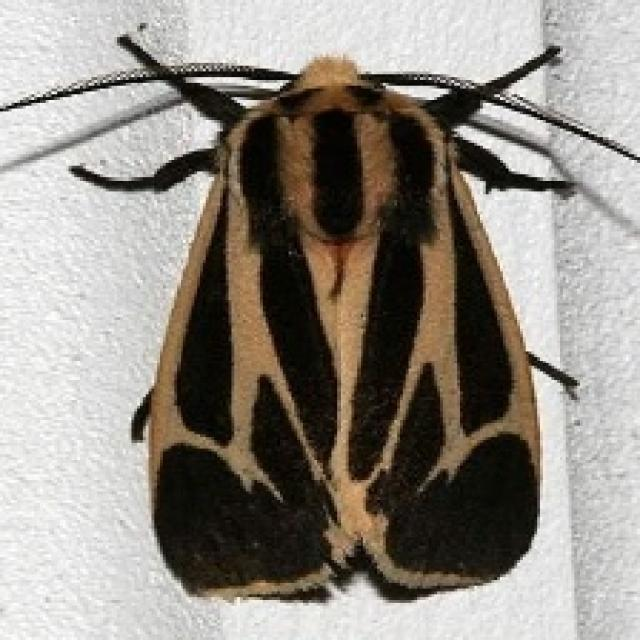butterfly: (0, 20, 637, 603)
